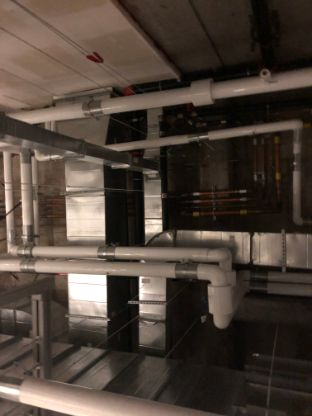Duct: (62, 118, 114, 347), (132, 110, 171, 354), (176, 225, 311, 269)
